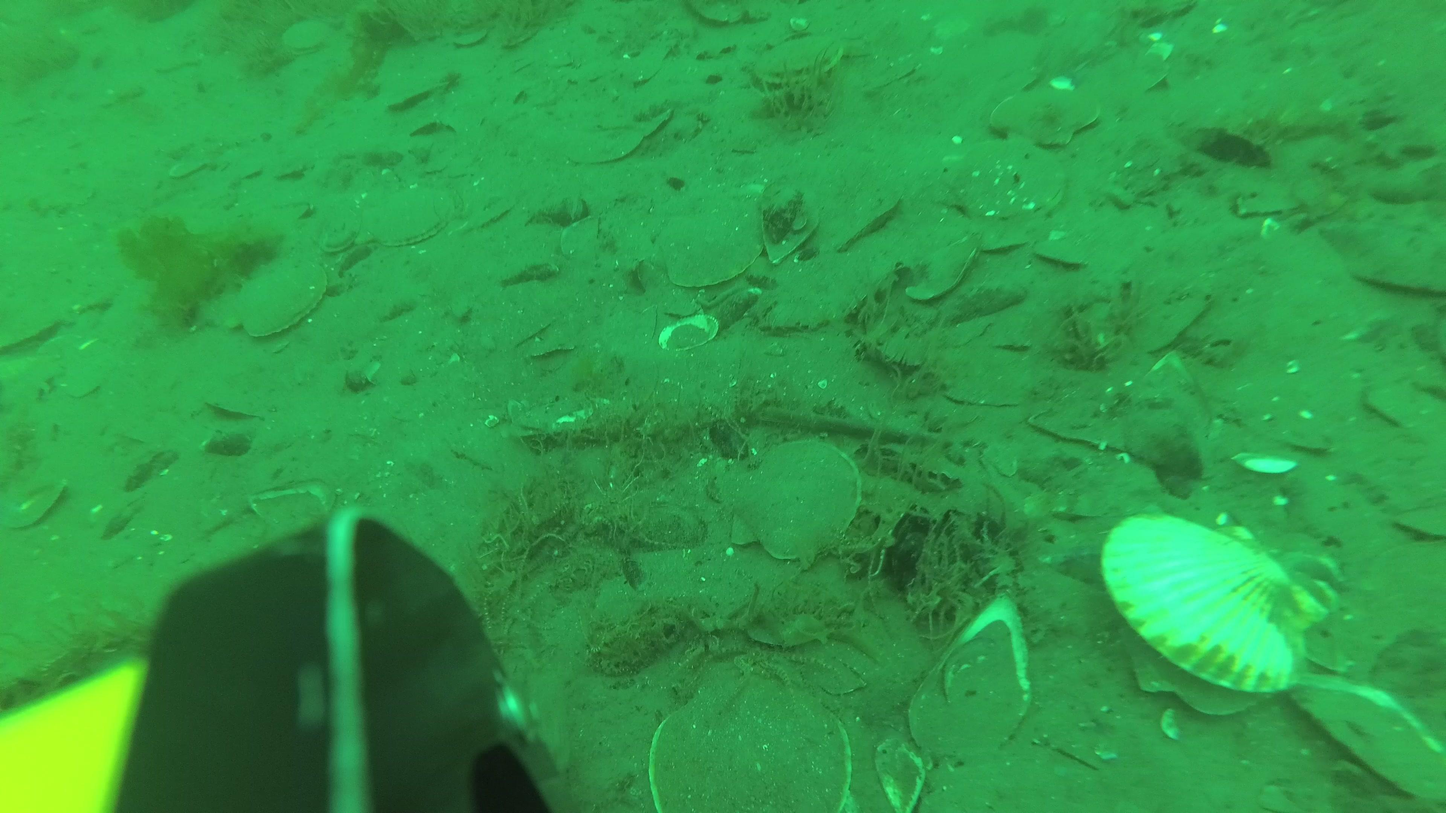scallop: (1101, 499, 1329, 720), (719, 446, 865, 562), (944, 137, 1067, 228), (660, 206, 766, 288), (988, 85, 1100, 151), (891, 214, 975, 300), (240, 263, 328, 344), (816, 181, 905, 258), (749, 33, 848, 87), (366, 189, 447, 246), (379, 57, 451, 114), (5, 300, 64, 359), (572, 122, 641, 166), (279, 22, 333, 58), (316, 222, 361, 258)
